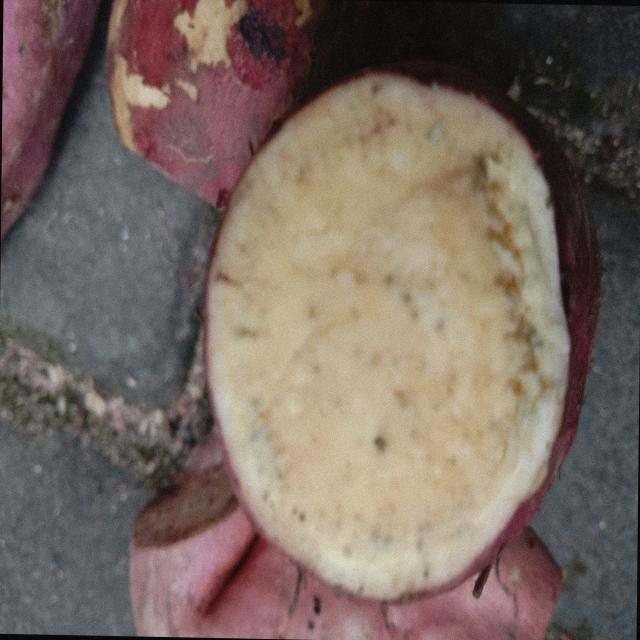Healthy Sweet Potato: (208, 73, 569, 600)
